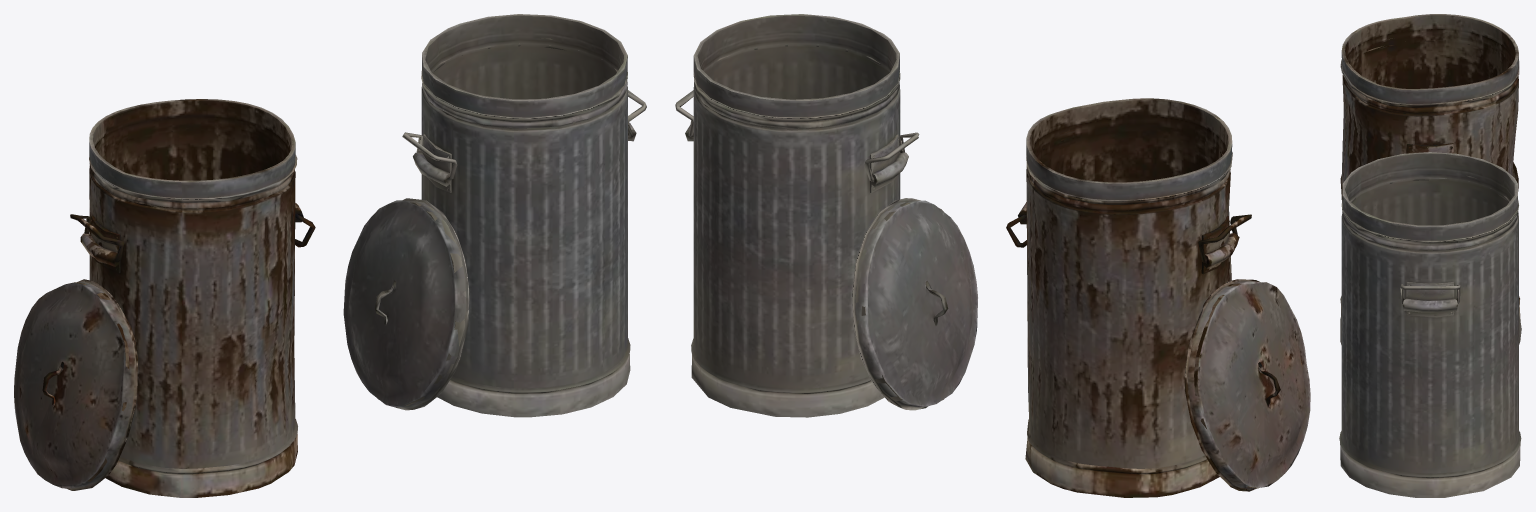
The model's file is metal_trash_can.glb.
3 renders of one model, left to right at view 1: azimuth 30°, elevation 25°; view 2: azimuth 150°, elevation 25°; view 3: azimuth 270°, elevation 25°, orthographic. The views are drawn at different scales.
Parts seen in each view (by area): view 1: metal_trash_can_handle_left, metal_trash_can_rust; view 2: metal_trash_can_handle_left, metal_trash_can_rust; view 3: metal_trash_can_handle_left, metal_trash_can_rust.
Part boxes in pixels (bbox=[...]): metal_trash_can_handle_left: bbox=[343, 14, 646, 417]; metal_trash_can_rust: bbox=[14, 99, 315, 497]; metal_trash_can_handle_left: bbox=[675, 14, 977, 417]; metal_trash_can_rust: bbox=[1006, 98, 1310, 497]; metal_trash_can_handle_left: bbox=[1339, 152, 1521, 497]; metal_trash_can_rust: bbox=[1340, 14, 1520, 319].
Bounding box in the file's own units: 1.78 × 0.9062 × 0.5533.
2 materials, 2 textured.
